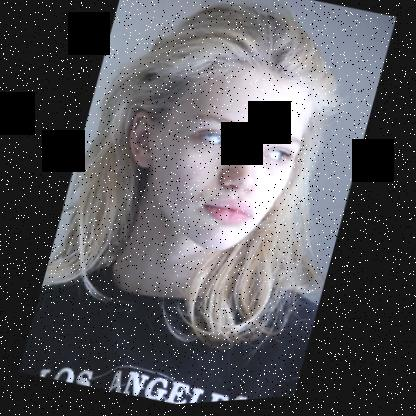Female: (102, 38, 317, 275)
